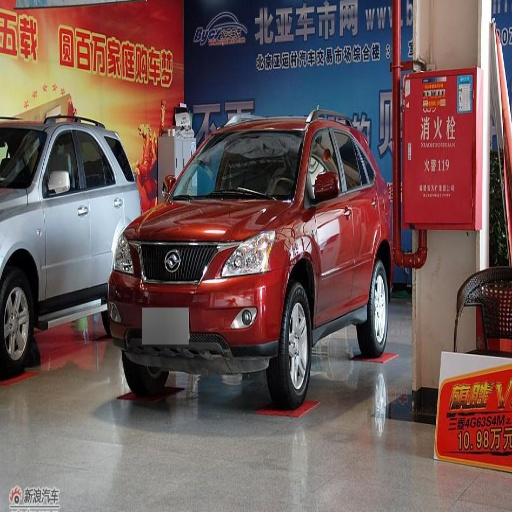back_glass: (331, 122, 377, 305), (76, 126, 108, 205)
back_right_light: (111, 241, 285, 361)
front_bumper: (170, 130, 302, 199)
front_glass: (305, 123, 352, 323), (40, 125, 90, 296)
front_left_door: (203, 230, 277, 279)
front_right_door: (114, 234, 137, 276)
front_right_light: (129, 200, 288, 241)
trunk: (267, 282, 310, 409), (359, 261, 387, 355), (125, 361, 166, 395)
